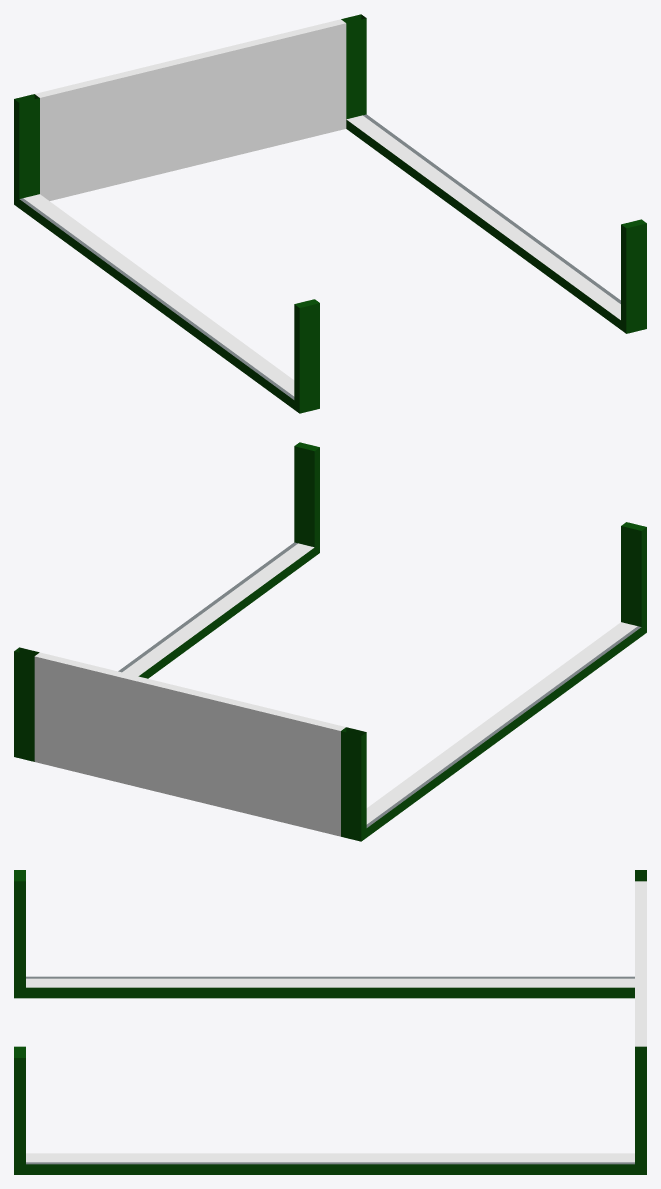
File: pared_externa.glb
The picture shows the model from 3 angles, top to bottom: view 1: azimuth 30°, elevation 25°; view 2: azimuth 150°, elevation 25°; view 3: azimuth 270°, elevation 25°; orthographic projection. The views are drawn at different scales.
Parts seen in each view (by area): view 1: columna1.003; view 2: columna1.003; view 3: columna1.003.
Boxes of the visible parts, bbox=[...] form: columna1.003: bbox=[14, 14, 646, 413]; columna1.003: bbox=[14, 442, 646, 841]; columna1.003: bbox=[14, 870, 646, 1174].
Size of the model in its own units: 66.45 by 19.31 by 94.66.
